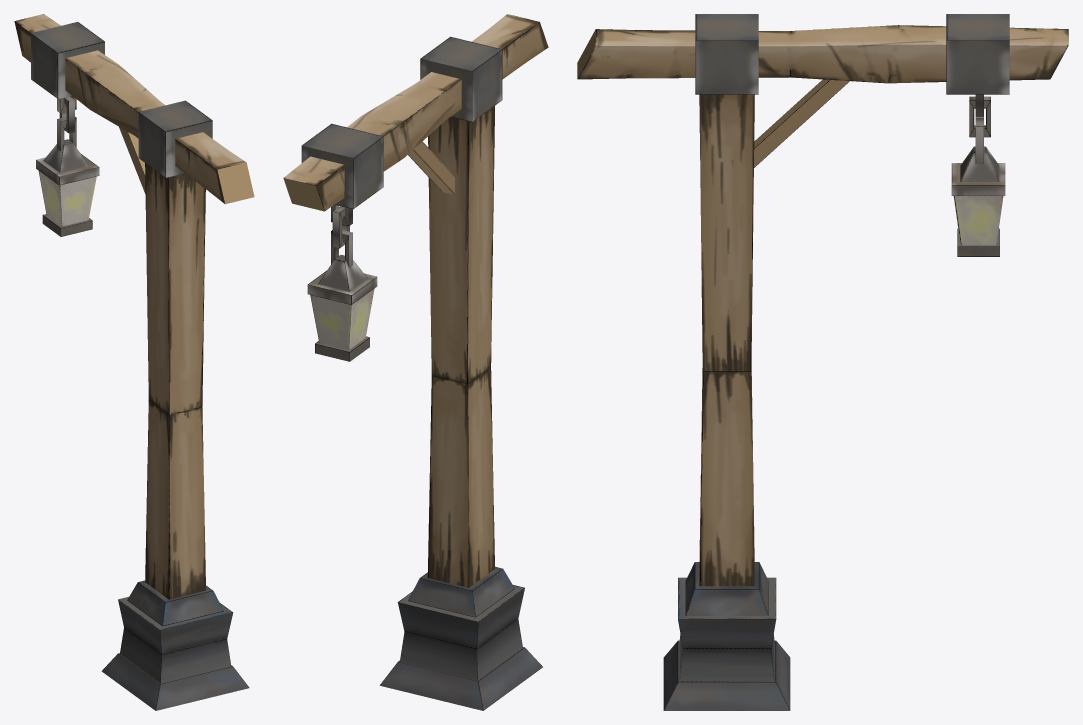
File: 가로등_마을밖.fbx
3 views of the same model, side by side, from view 1: azimuth 30°, elevation 25°; view 2: azimuth 150°, elevation 25°; view 3: azimuth 270°, elevation 25° (orthographic). The views are drawn at different scales.
Visible parts, largest first — view 1: street_lamp_in; view 2: street_lamp_in; view 3: street_lamp_in.
Part boxes in pixels (left/top/right/bottom): street_lamp_in: left=14, top=14, right=254, bottom=710; street_lamp_in: left=283, top=14, right=548, bottom=710; street_lamp_in: left=577, top=14, right=1068, bottom=710.
Bounding box in the file's own units: 40 × 229 × 155.
